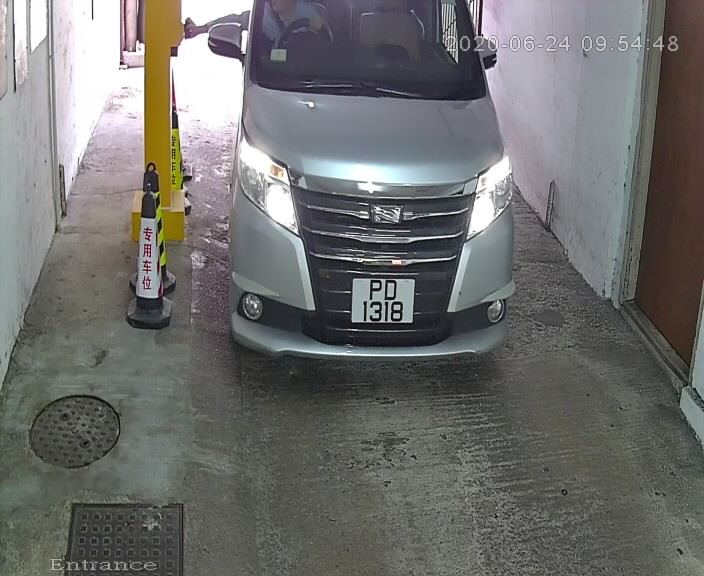Car: (203, 1, 519, 397)
License Plate: (351, 272, 422, 330)
